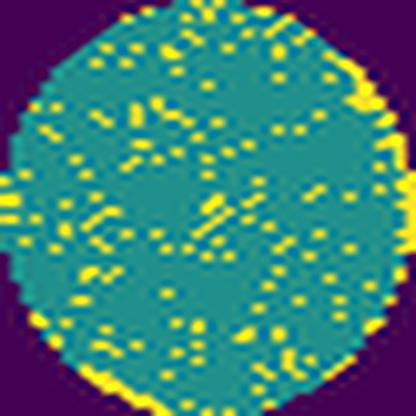Edge-Loc: (78, 359, 172, 416), (330, 52, 404, 124), (373, 132, 415, 257)
